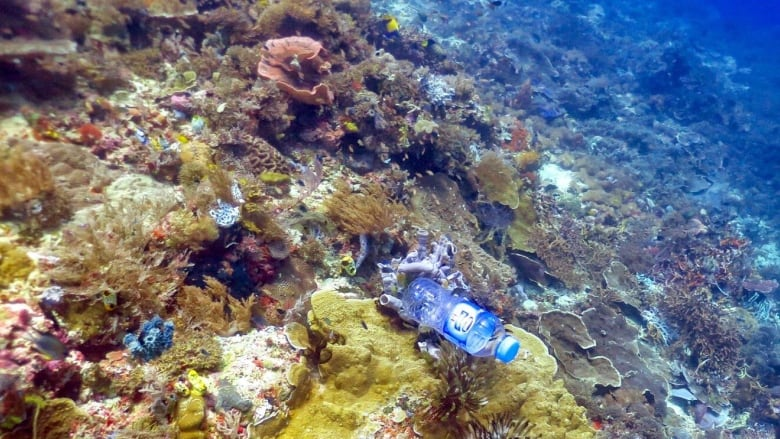litter: (389, 276, 530, 370)
